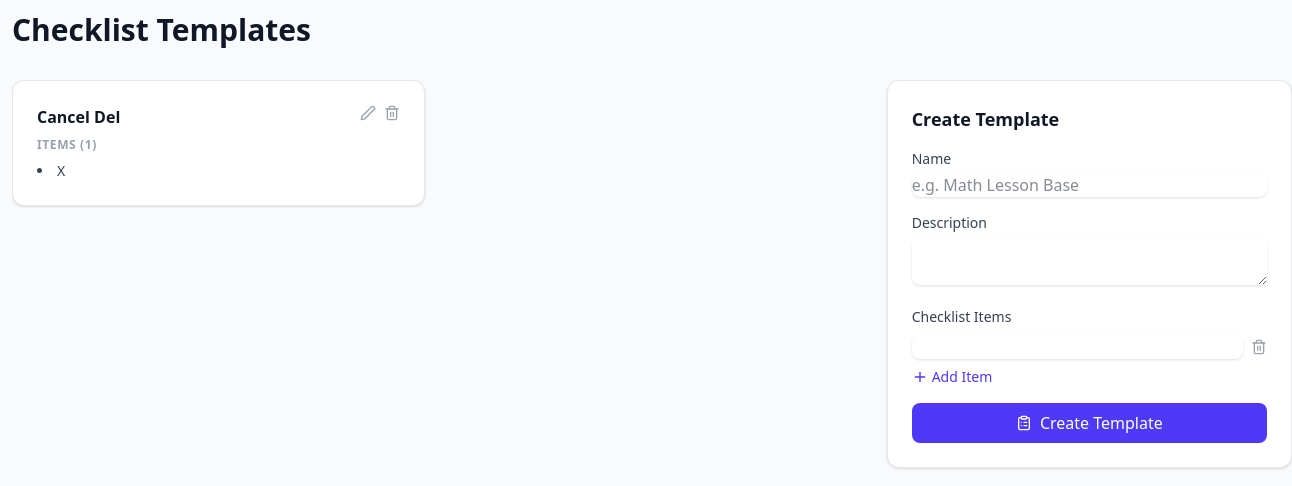
Scenario: Templates › cancels delete
The image size is (1292, 486).
Expected: the heading "Cancel Del" is shown, [37,105,120,129]
Step 1. Click the button named "Delete template" → point(392, 113), box [384,105,400,121]
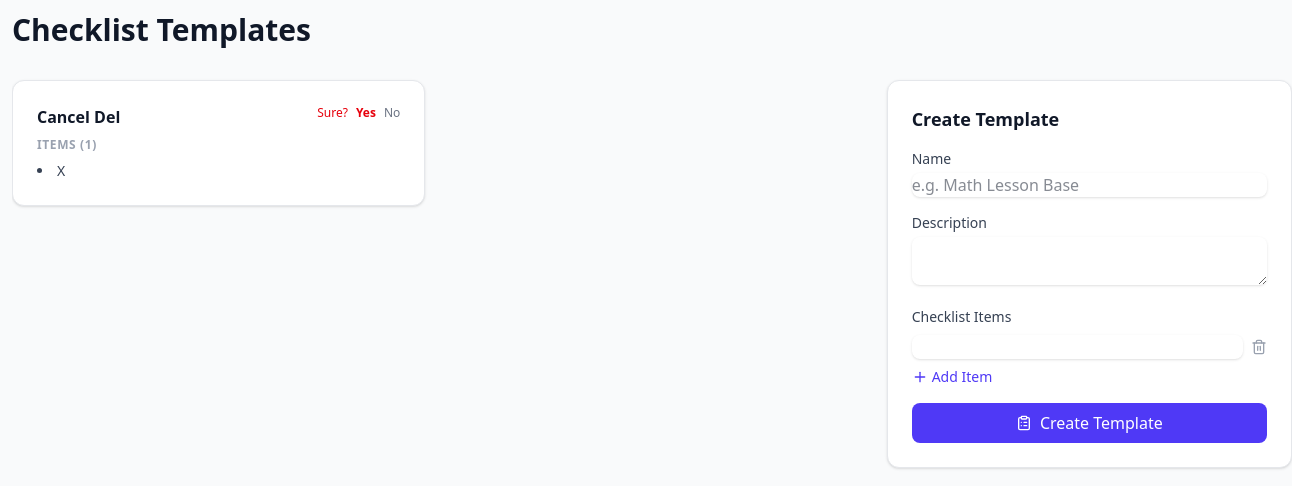
Now the text "Sure?" is shown, box [317,105,348,121]
Step 2. Click the button with aria-label "Cancel delete" → point(392, 113), box [384,105,400,121]
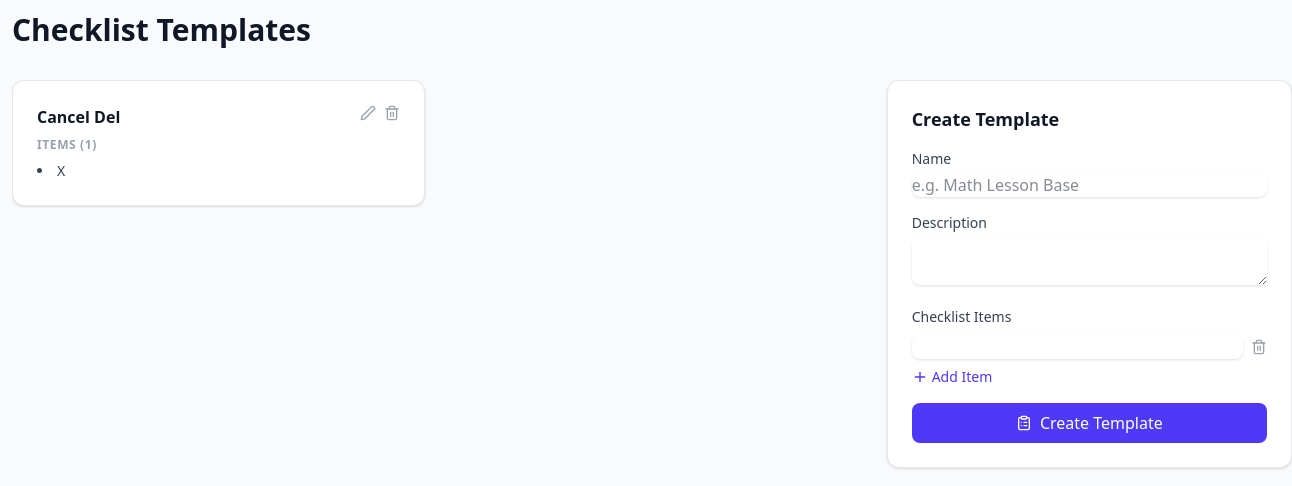
Now the text "Sure?" is gone
